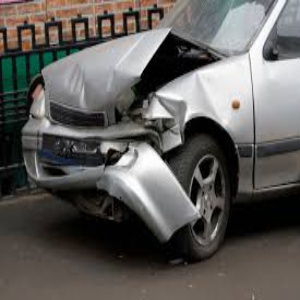bonnet: (49, 26, 173, 92)
bumper: (48, 128, 197, 233)
